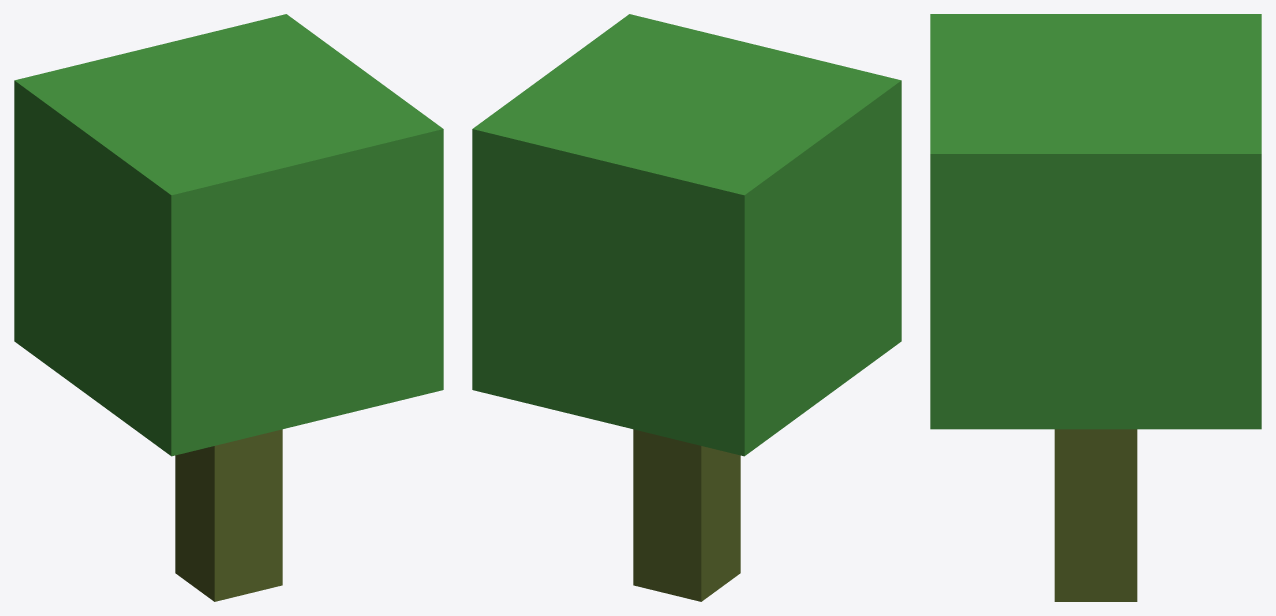
The model's file is lowpoly_tree.gltf.
The picture shows the model from 3 angles, left to right: view 1: azimuth 30°, elevation 25°; view 2: azimuth 150°, elevation 25°; view 3: azimuth 270°, elevation 25°; orthographic projection. The views are drawn at different scales.
Bounding box in the file's own units: 1.2 × 2 × 1.2.
